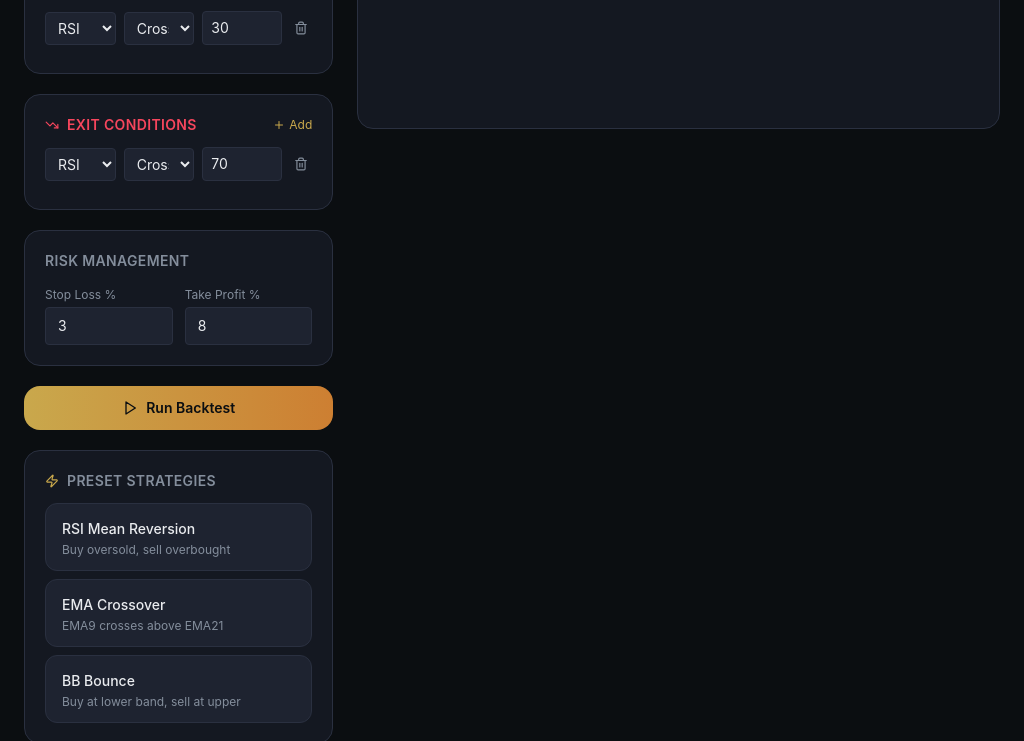
StrategyBacktester page › Results display after successful backtest
(page scrolled)
Click the button "Run Backtest": (179, 408) [24,386,333,430]
(page scrolled)
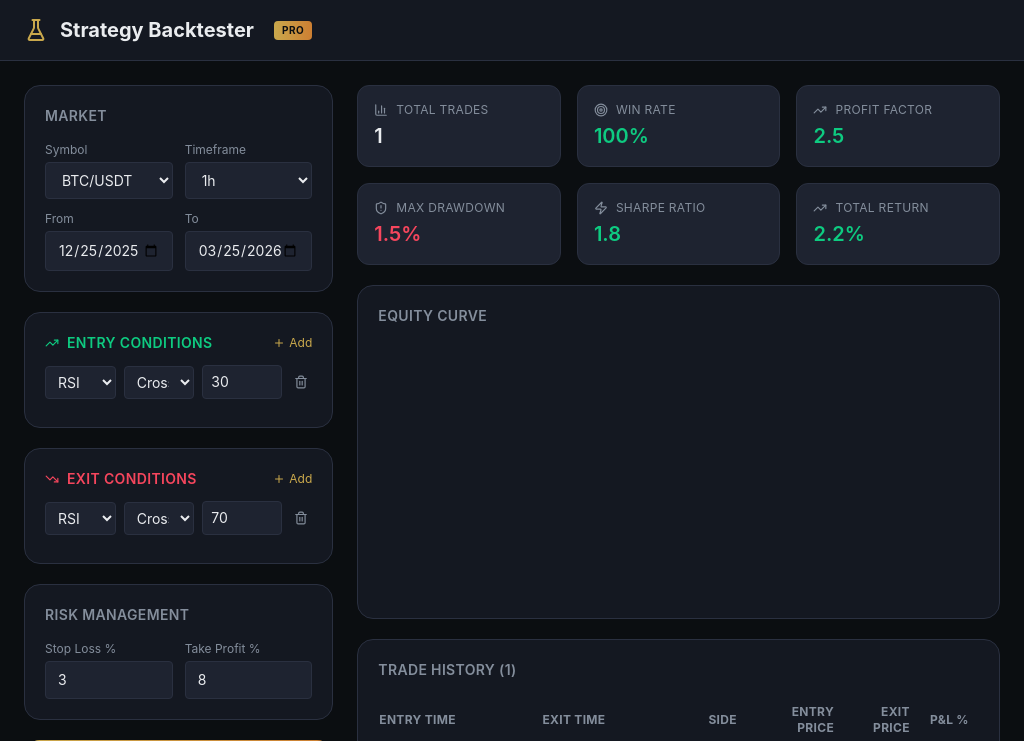
Expected: the text "100%" is shown, [594,124,649,148]
Expected: the text "2.2%" is shown, [813,222,865,246]
Expected: the text "2.5" is shown, [813,124,844,148]
